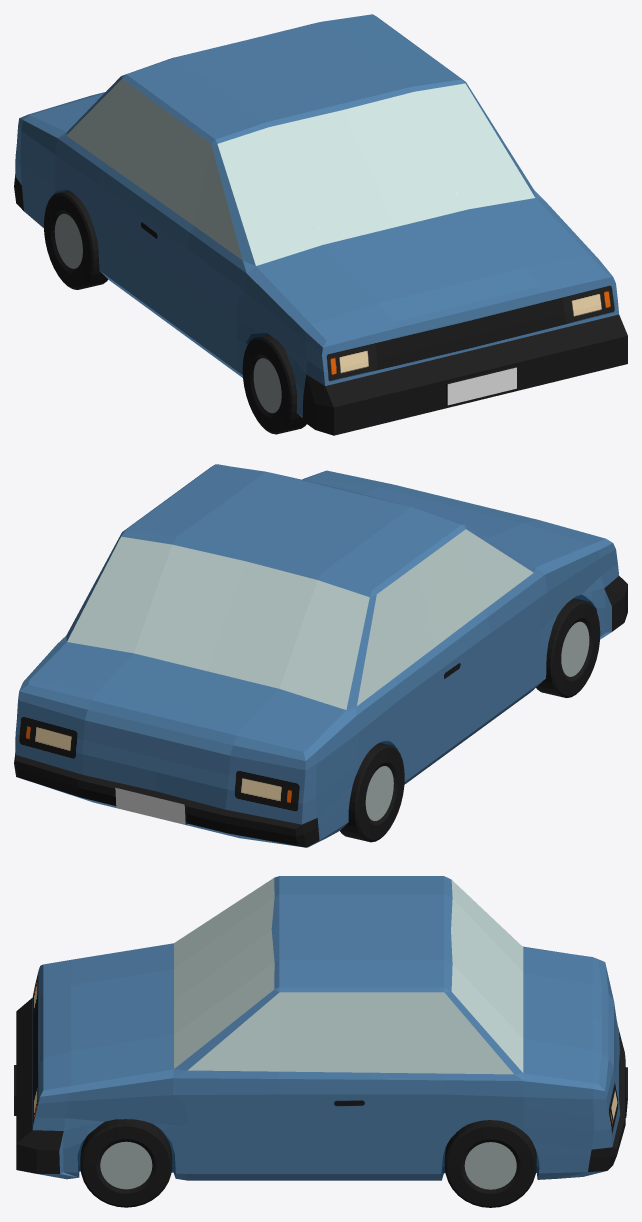
The model's file is blue_car.fbx.
3 renders of one model, top to bottom at view 1: azimuth 30°, elevation 25°; view 2: azimuth 150°, elevation 25°; view 3: azimuth 270°, elevation 25°, orthographic. The views are drawn at different scales.
Visible parts, largest first — view 1: Cube; view 2: Cube; view 3: Cube.
Boxes of the visible parts, box(x1,y1,x2,y2) form: Cube: box(14, 14, 627, 435); Cube: box(14, 464, 627, 847); Cube: box(14, 876, 627, 1207).
Size of the model in its own units: 304 by 210 by 553.
Materials: 1 (1 with a texture image).
